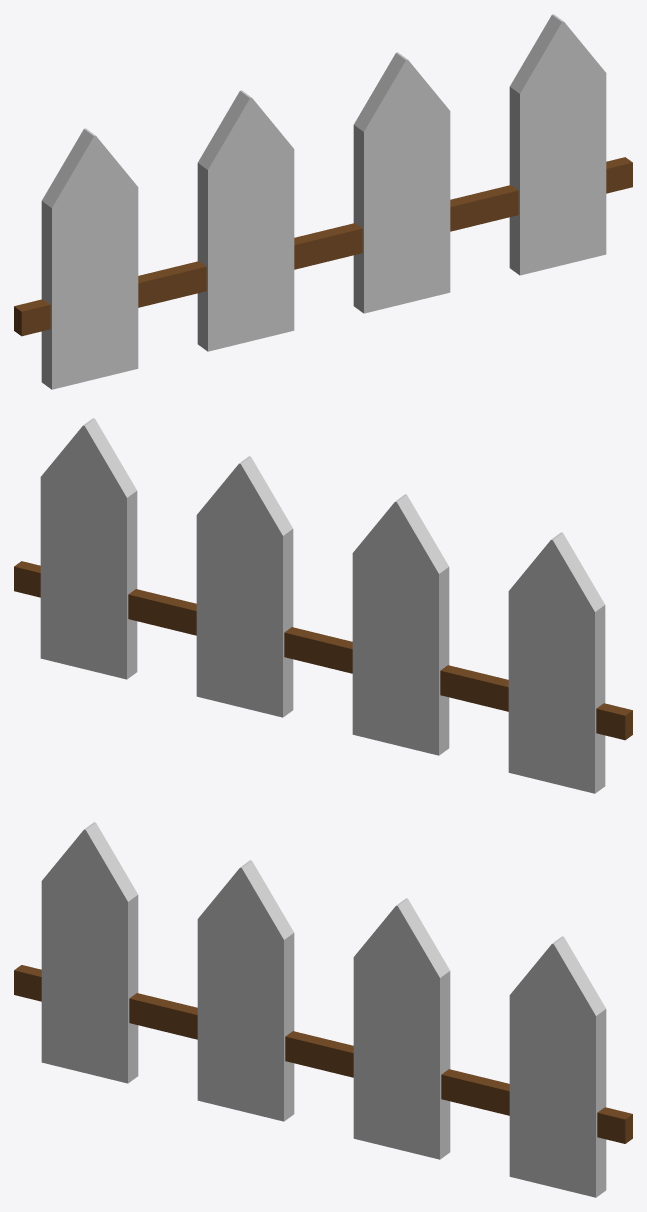
The model's file is SM_fence_02.fbx.
The picture shows the model from 3 angles, top to bottom: view 1: azimuth 30°, elevation 25°; view 2: azimuth 150°, elevation 25°; view 3: azimuth 330°, elevation 25°; orthographic projection.
Visible parts, largest first — view 1: Box036; view 2: Box036; view 3: Box036.
Part boxes in pixels (left/top/right/bottom): Box036: left=14, top=14, right=632, bottom=389; Box036: left=14, top=418, right=632, bottom=793; Box036: left=14, top=822, right=632, bottom=1197.
Size of the model in its own units: 96.38 by 36.64 by 2.78.
